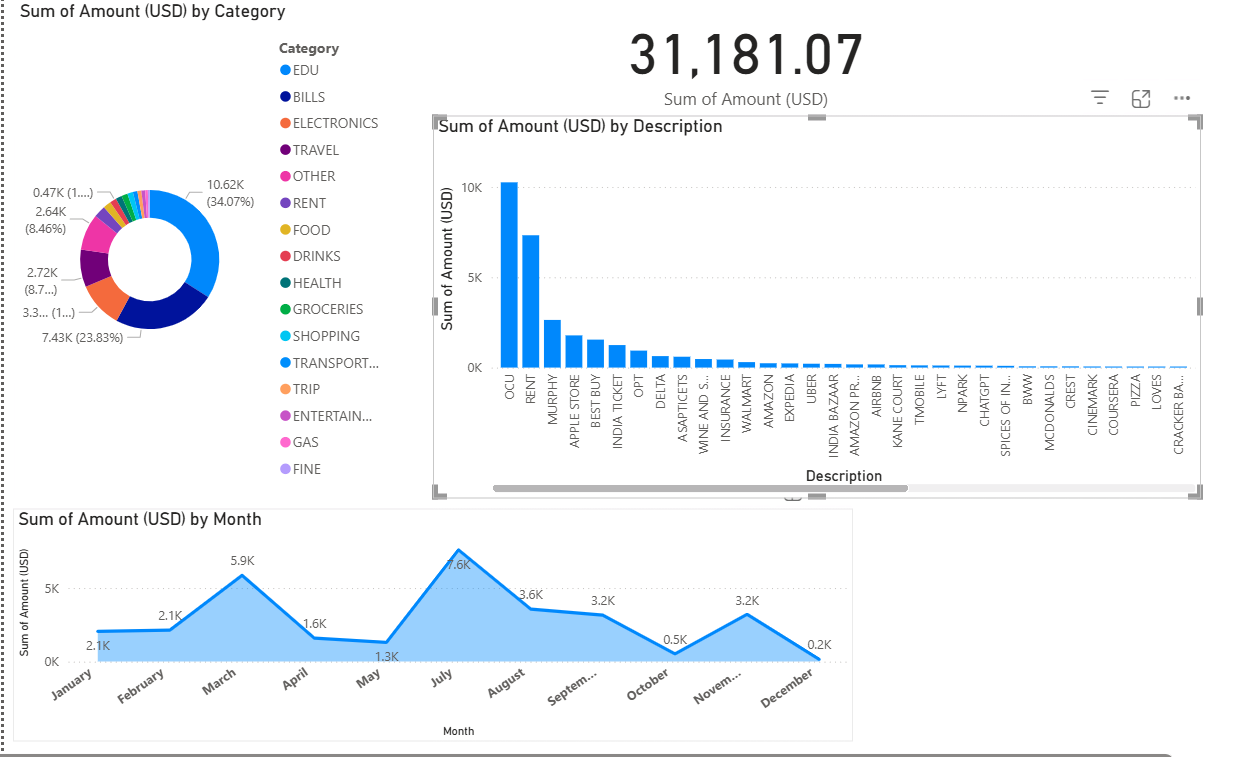

The page's visual inventory and layout, read from the dashboard file:
{"tool":"powerbi","page":{"name":"Page 1","canvas":[1280,720],"ordinal":0},"visuals":[{"type":"donutChart","fields":{"Category":["Sheet1.Category"],"Y":["Sum(Sheet1.Amount (USD))"]},"box":[9.4,0,362.8,474.3],"z":0},{"type":"lineChart","fields":{"Category":["Sheet1.Month.Variation.Date Hierarchy.Month"],"Y":["Sum(Sheet1.Amount (USD))"]},"box":[8.8,483.8,800,222.5],"z":1000},{"type":"card","fields":{"Values":["Sum(Sheet1.Amount (USD))"]},"box":[586.2,0,241.2,110],"z":2000},{"type":"columnChart","fields":{"Y":["Sum(Sheet1.Amount (USD))"],"Category":["Sheet1.Description"]},"box":[408.8,110,731.2,363.8],"z":3000}]}

Visuals, with their boxes on the page's 1280x720 design canvas (x1, y1, x2, y2). These are canvas units, not pixel positions in the 1252x757 screenshot, which may show the page scaled, cropped or inside an application window:
donutChart - Sheet1.Category x Sum(Sheet1.Amount (USD)): 9 0 372 474
lineChart - Sheet1.Month.Variation.Date Hierarchy.Month x Sum(Sheet1.Amount (USD)): 9 484 809 706
card - Sum(Sheet1.Amount (USD)): 586 0 827 110
columnChart - Sum(Sheet1.Amount (USD)) x Sheet1.Description: 409 110 1140 474
